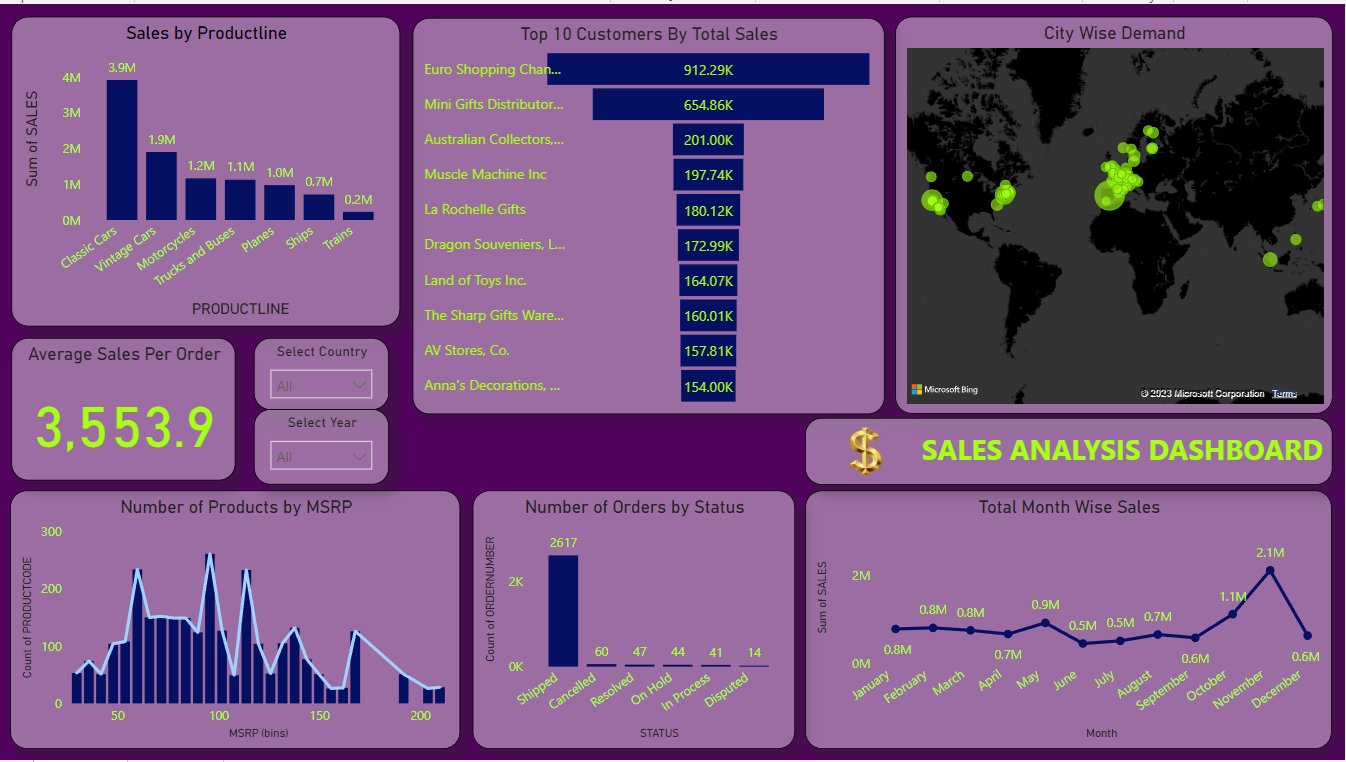

The dashboard page shown, as its layout file describes it:
{"tool":"powerbi","page":{"name":"Page 1","canvas":[1280,720],"ordinal":0},"visuals":[{"type":"clusteredColumnChart","title":"Sales by Productline","fields":{"Category":["sales_data_sample.PRODUCTLINE"],"Y":["Sum(sales_data_sample.SALES)"]},"box":[10.4,11.9,370.1,295.5],"z":0},{"type":"lineChart","title":"Total Month Wise Sales","fields":{"Category":["sales_data_sample.ORDERDATE.Variation.Date Hierarchy.Month"],"Y":["Sum(sales_data_sample.SALES)"]},"box":[766.4,463.4,501.8,246.8],"z":1000},{"type":"map","title":"City Wise Demand","fields":{"Category":["sales_data_sample.CITY"],"Size":["Sum(sales_data_sample.QUANTITYORDERED)"]},"box":[851.7,12.4,416.9,378.7],"z":2000},{"type":"lineClusteredColumnComboChart","title":"Number of Products by MSRP","fields":{"Category":["sales_data_sample.MSRP (bins)"],"Y":["CountNonNull(sales_data_sample.PRODUCTCODE)"],"Y2":["CountNonNull(sales_data_sample.MSRP (bins))"]},"box":[9.6,463.4,429.1,246.8],"z":3000},{"type":"clusteredColumnChart","title":"Number of Orders by Status","fields":{"Category":["sales_data_sample.STATUS"],"Y":["CountNonNull(sales_data_sample.ORDERNUMBER)"]},"box":[449.7,463.4,307.1,246.8],"z":4000},{"type":"funnel","title":"Top 10 Customers By Total Sales","fields":{"Category":["sales_data_sample.CUSTOMERNAME"],"Y":["Sum(sales_data_sample.SALES)"]},"box":[392.5,13.4,449.3,377.6],"z":5000},{"type":"slicer","title":"Select Country","fields":{"Values":["sales_data_sample.COUNTRY"]},"box":[241.3,318.1,128.9,68.6],"z":6000},{"type":"slicer","title":"Select Year","fields":{"Values":["sales_data_sample.ORDERDATE.Variation.Date Hierarchy.Year"]},"box":[241.2,386,128.9,71.9],"z":7000},{"type":"card","title":"Average Sales Per Order","fields":{"Values":["Avg(sales_data_sample.SALES)"]},"box":[11,318.1,213.9,135.7],"z":8000},{"type":"textbox","box":[766.3,394.4,502.2,64],"z":9000},{"type":"image","box":[793.3,396.6,58.4,59.6],"z":10000}]}

Visuals, with their boxes in screenshot pixels (x1, y1, x2, y2), scaled from the page's 1280x720 canvas onto the 1346x762 screenshot:
"Sales by Productline" clusteredColumnChart: 11 13 400 325
"Total Month Wise Sales" lineChart: 806 490 1334 752
"City Wise Demand" map: 896 13 1334 414
"Number of Products by MSRP" lineClusteredColumnComboChart: 10 490 461 752
"Number of Orders by Status" clusteredColumnChart: 473 490 796 752
"Top 10 Customers By Total Sales" funnel: 413 14 885 414
"Select Country" slicer: 254 337 389 409
"Select Year" slicer: 254 409 389 485
"Average Sales Per Order" card: 12 337 236 480
textbox: 806 417 1334 485
image: 834 420 896 483
